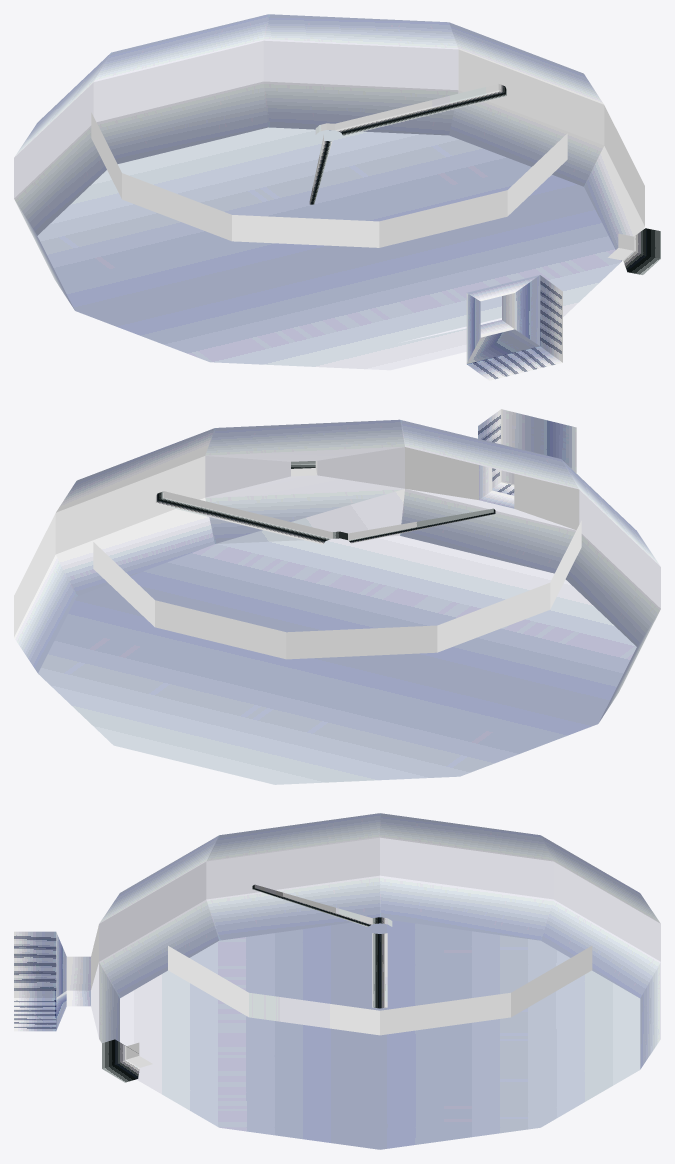
Rendered from ps2_save-icons_atvquadpowerracing2-timetrial.glb.
The picture shows the model from 3 angles, top to bottom: view 1: azimuth 30°, elevation 25°; view 2: azimuth 150°, elevation 25°; view 3: azimuth 270°, elevation 25°; orthographic projection. The views are drawn at different scales.
Parts seen in each view (by area): view 1: TIMETRIAL.ICO; view 2: TIMETRIAL.ICO; view 3: TIMETRIAL.ICO.
Part boxes in pixels (left/top/right/bottom): TIMETRIAL.ICO: left=14, top=14, right=660, bottom=380; TIMETRIAL.ICO: left=14, top=409, right=660, bottom=784; TIMETRIAL.ICO: left=14, top=813, right=660, bottom=1149.
Bounding box in the file's own units: 3.02 × 0.665 × 3.31.
1 material, 1 textured.
